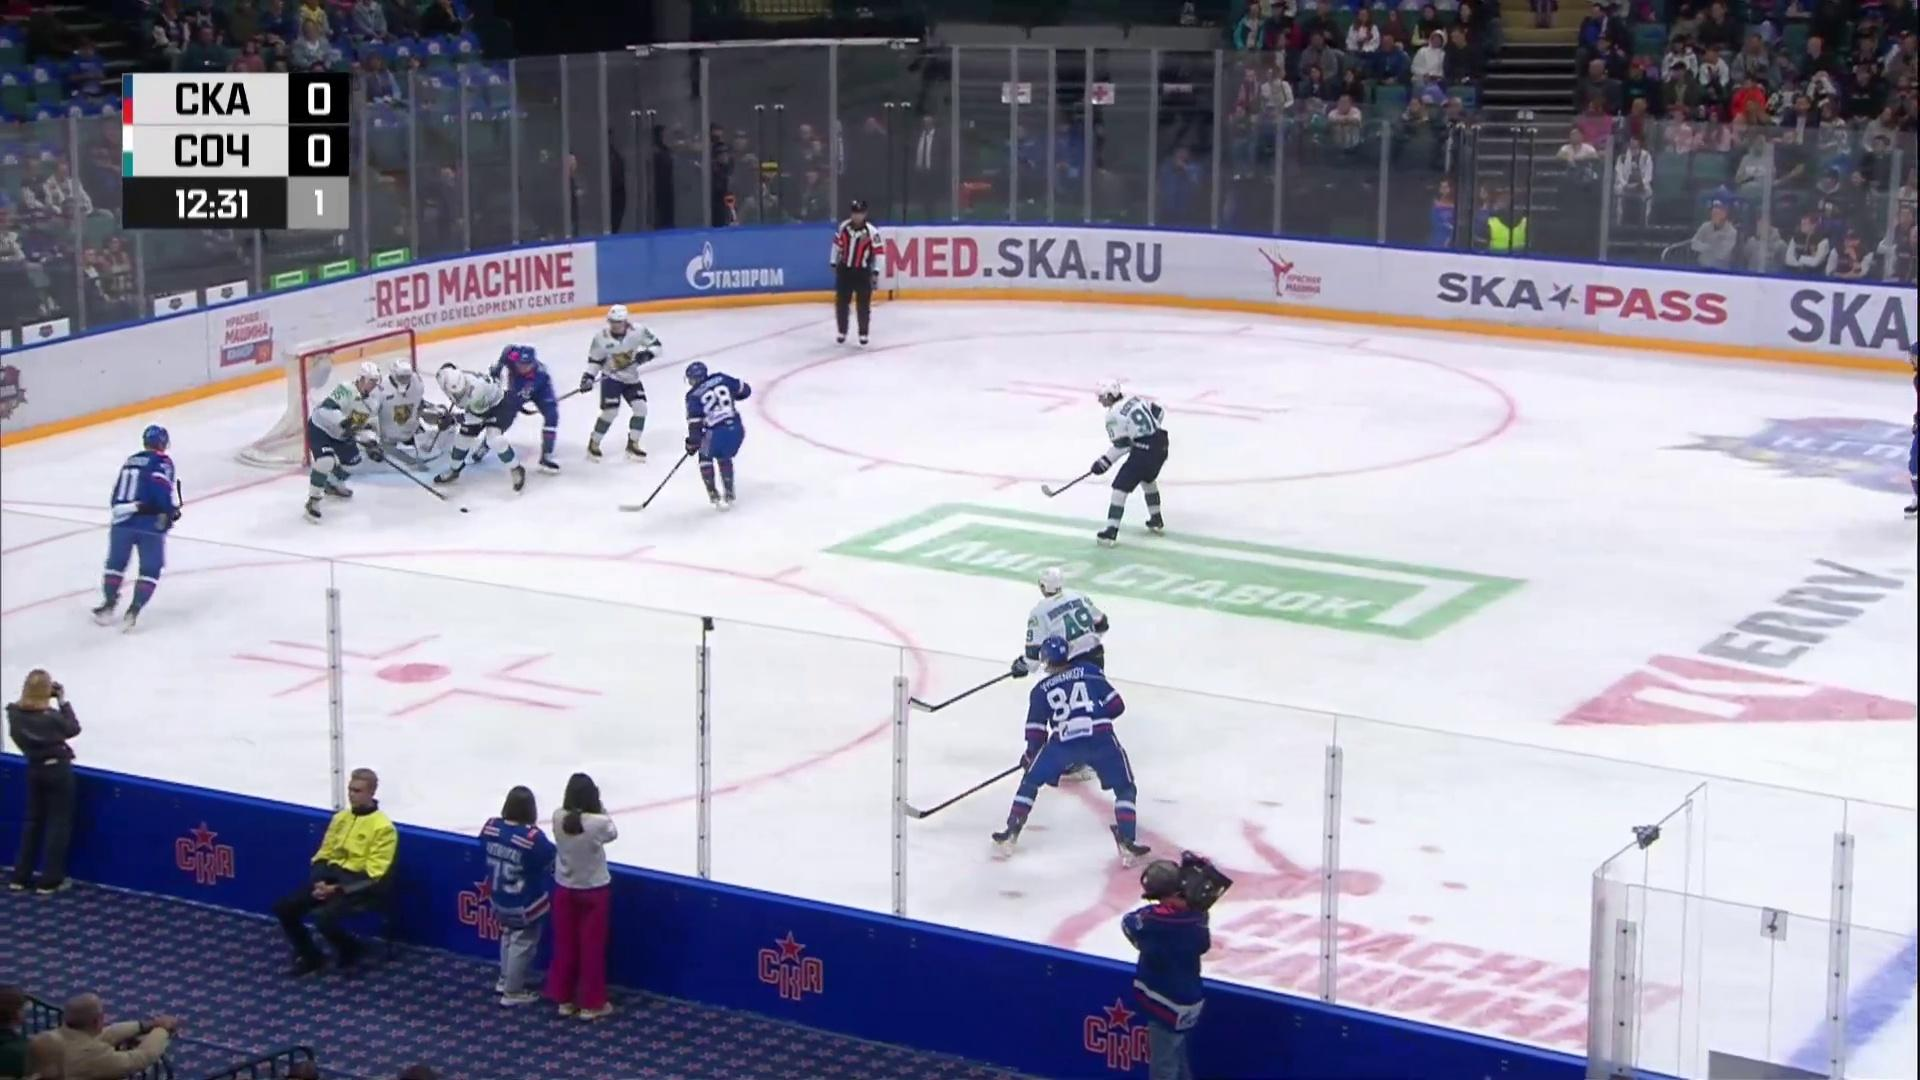ball: (459, 508, 468, 513)
